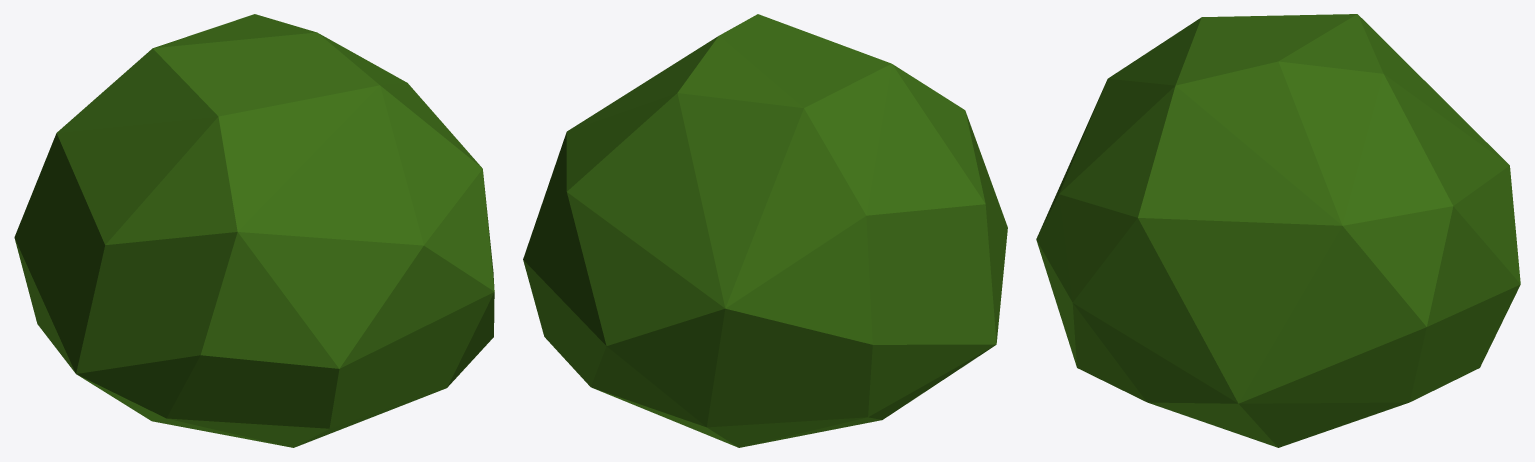
File: Bush_05.fbx
3 views of the same model, side by side, from view 1: azimuth 30°, elevation 25°; view 2: azimuth 150°, elevation 25°; view 3: azimuth 270°, elevation 25° (orthographic).
Parts seen in each view (by area): view 1: Bush_05; view 2: Bush_05; view 3: Bush_05.
Boxes of the visible parts, x1=… form: Bush_05: x1=14, y1=14, x2=494, y2=447; Bush_05: x1=523, y1=14, x2=1007, y2=447; Bush_05: x1=1036, y1=14, x2=1520, y2=447.
Bounding box in the file's own units: 129 × 107 × 129.
